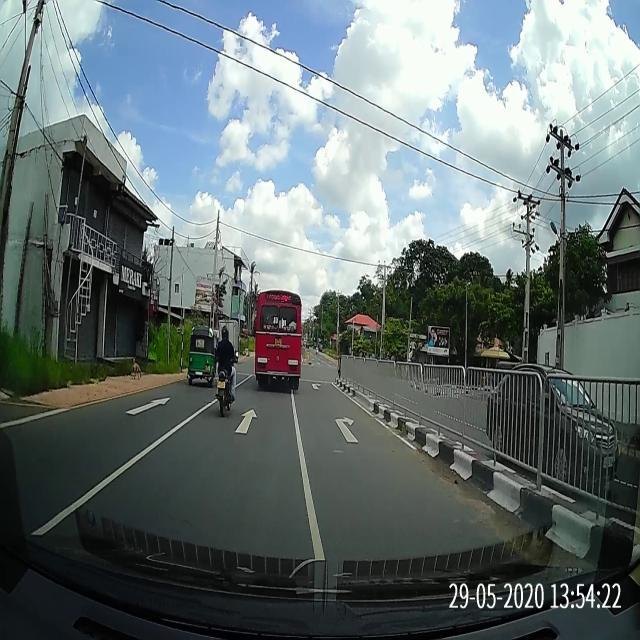forward: (210, 401, 309, 468)
